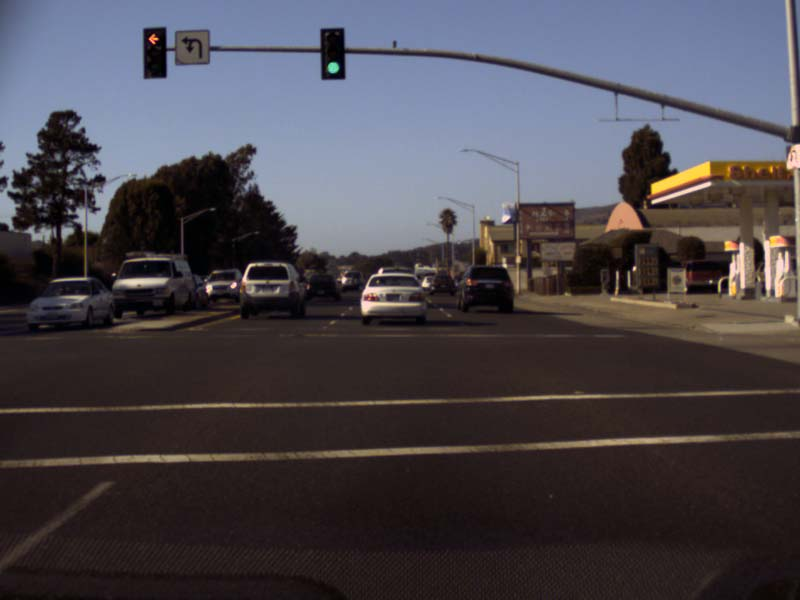Green: (319, 27, 345, 79)
Red: (142, 26, 167, 80)
